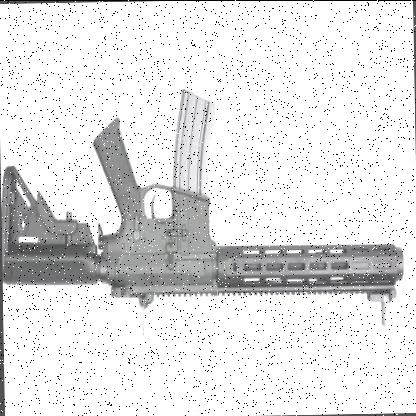rifle: (0, 101, 403, 333)
